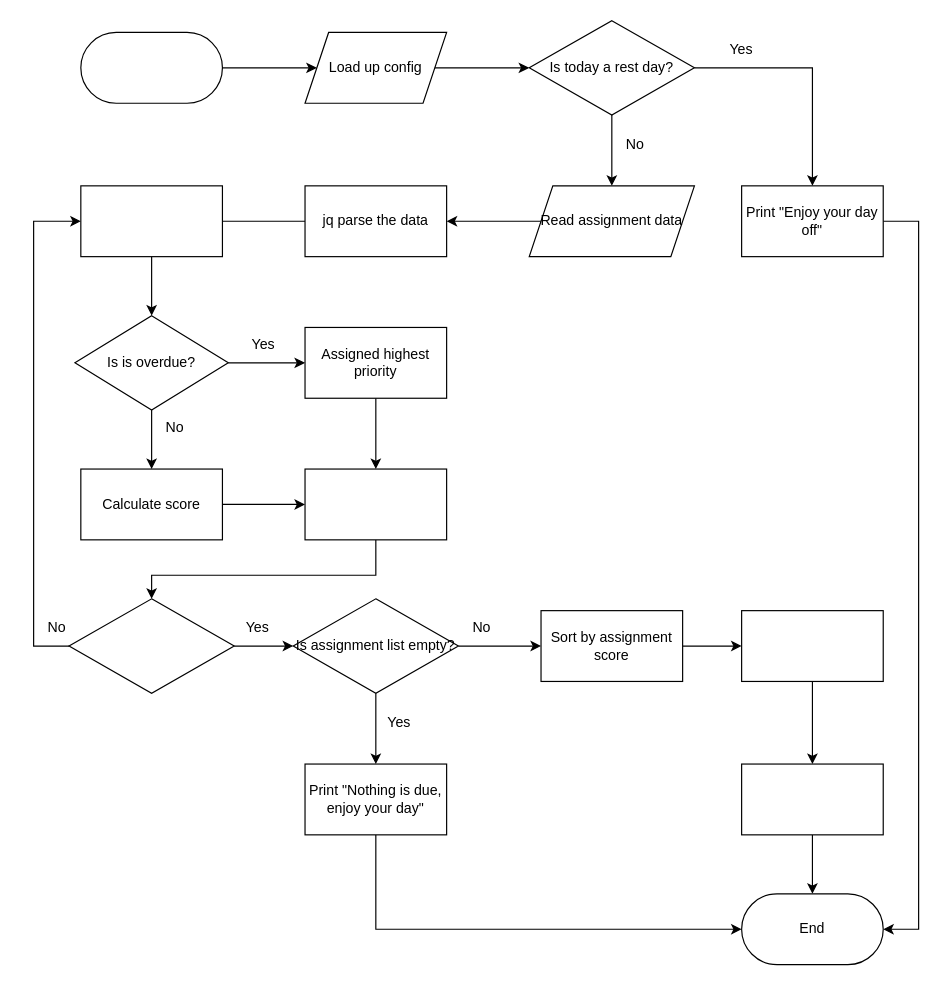
The diagram is 949 pixels wide and 985 high, and some of its shapes have lost their labels. Here are the shapes that lost their labels. From the top down, the box of each, then its label:
(80, 31, 222, 103): Cronjob at 6 AM
(80, 185, 222, 257): Read Assignment
(304, 468, 447, 540): Store in assignment and priority value
(68, 598, 234, 693): Last item?
(740, 609, 883, 681): Select top N assignments
(740, 763, 883, 835): Print greeting and checklist output
